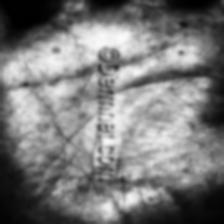Unclassified: (6, 37, 96, 224), (122, 16, 206, 214)
